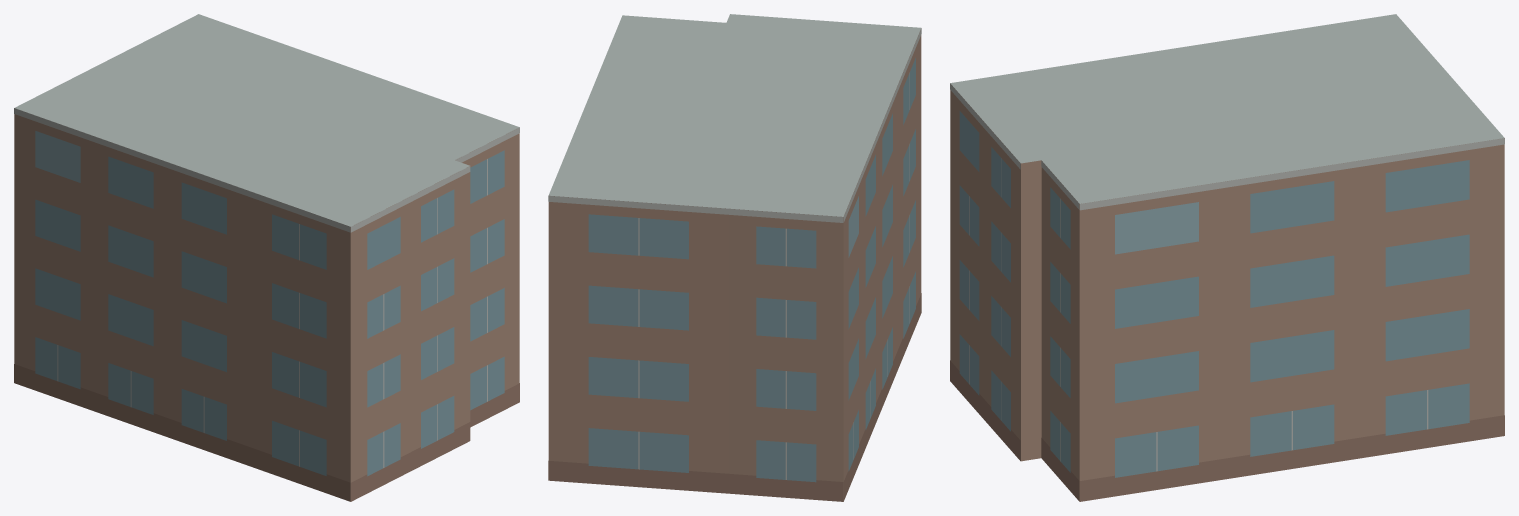
File: survey-upis-32780043.glb
3 views of the same model, side by side, from view 1: azimuth 30°, elevation 25°; view 2: azimuth 150°, elevation 25°; view 3: azimuth 270°, elevation 25° (orthographic). The views are drawn at different scales.
Visible parts, largest first — view 1: survey-upis-32780043.tmp; view 2: survey-upis-32780043.tmp; view 3: survey-upis-32780043.tmp.
Part boxes in pixels (<box>): survey-upis-32780043.tmp: <box>14,14,519,501</box>; survey-upis-32780043.tmp: <box>548,14,921,501</box>; survey-upis-32780043.tmp: <box>950,14,1504,501</box>.
Bounding box in the file's own units: 15.47 × 11.3 × 19.08.
